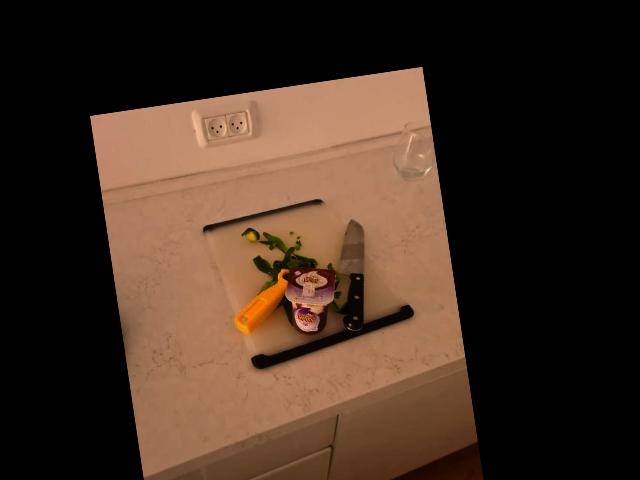milky: (278, 259, 339, 337)
